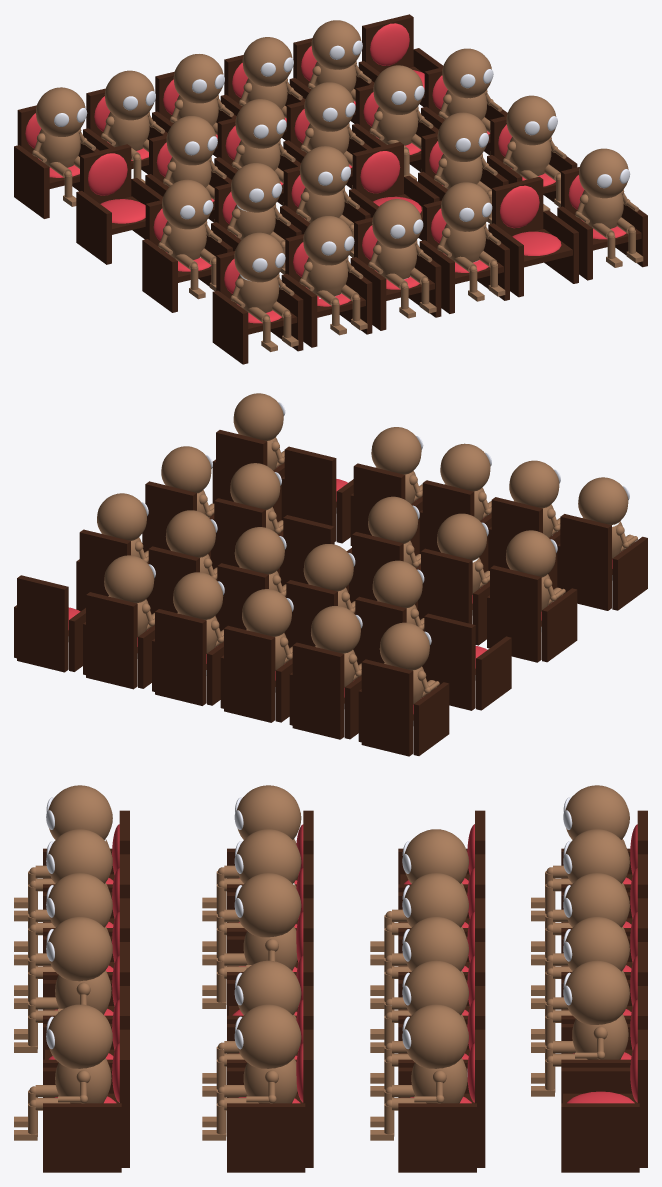
3 views of the same model, one above another, from view 1: azimuth 30°, elevation 25°; view 2: azimuth 150°, elevation 25°; view 3: azimuth 270°, elevation 25° (orthographic). The views are drawn at different scales.
Parts seen in each view (by area): view 1: pCube5; view 2: pCube5; view 3: pCube5.
Part boxes in pixels (x1,y1,x2,y2): pCube5: [14, 14, 647, 364]; pCube5: [14, 393, 647, 756]; pCube5: [14, 785, 647, 1172].
Size of the model in its own units: 70.54 by 18.65 by 73.35.
